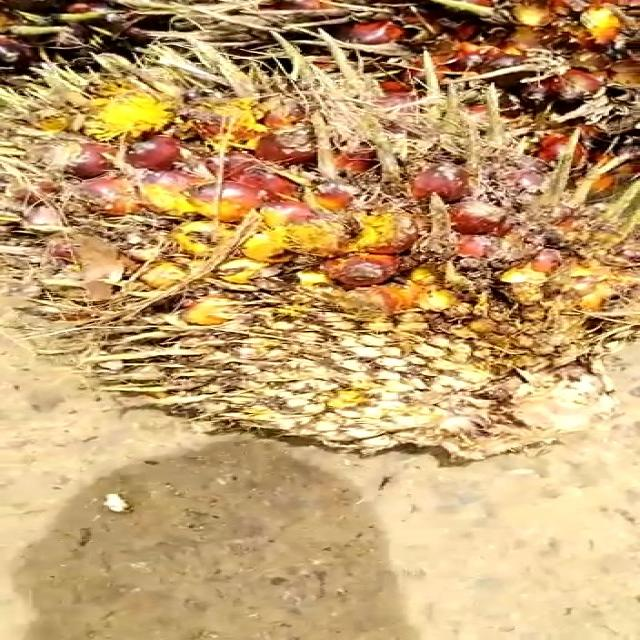palm oil: (0, 51, 640, 491)
